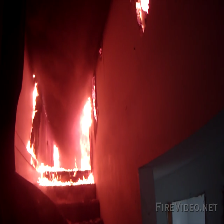fire_h: (80, 98, 92, 172), (35, 172, 96, 186), (37, 157, 79, 172), (136, 1, 150, 32), (92, 77, 98, 120)
fire_l: (27, 141, 38, 168), (32, 83, 38, 126), (53, 146, 60, 172), (99, 47, 102, 55)
